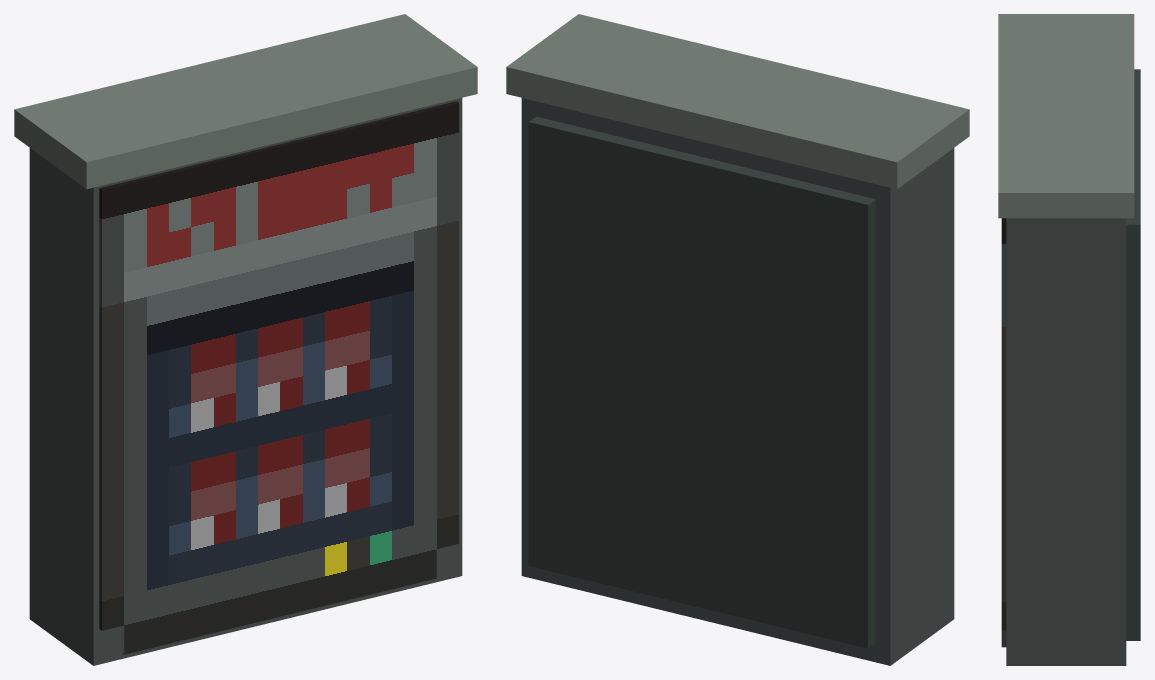
Rendered from CMU3DInteriorVehicleHumveeBloodVendorVend.glb.
3 renders of one model, left to right at view 1: azimuth 30°, elevation 25°; view 2: azimuth 150°, elevation 25°; view 3: azimuth 270°, elevation 25°, orthographic. The views are drawn at different scales.
Visible parts, largest first — view 1: source equipment controls, reinforced top, closed equipment casing; view 2: rear service plate, closed equipment casing, reinforced top; view 3: closed equipment casing, reinforced top, rear service plate, source equipment controls.
Boxes of the visible parts, left/top/right/bottom form: source equipment controls: left=99, top=101, right=458, bottom=654; reinforced top: left=14, top=14, right=477, bottom=189; closed equipment casing: left=29, top=98, right=462, bottom=665; rear service plate: left=528, top=116, right=875, bottom=648; closed equipment casing: left=521, top=98, right=954, bottom=665; reinforced top: left=506, top=14, right=969, bottom=189; closed equipment casing: left=1006, top=218, right=1126, bottom=665; reinforced top: left=998, top=14, right=1134, bottom=218; rear service plate: left=1126, top=69, right=1140, bottom=640; source equipment controls: left=1001, top=218, right=1006, bottom=647.
Size of the model in its own units: 0.53 by 0.66 by 0.178.
Materials: 4 (1 with a texture image).
